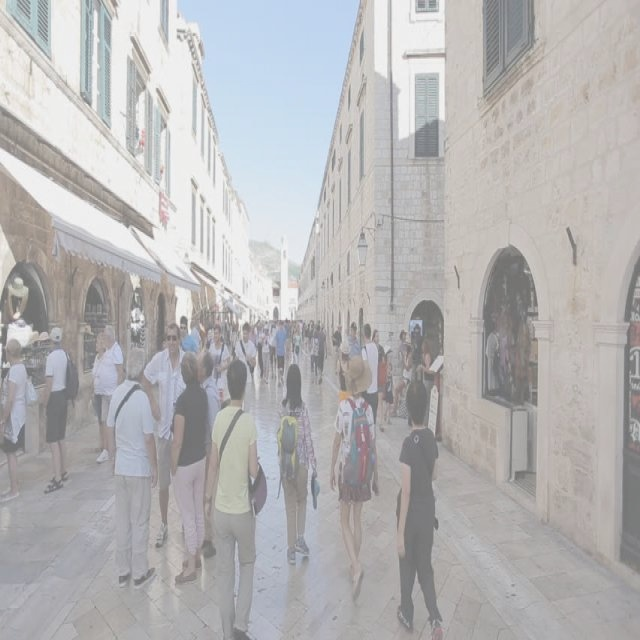pessoa: (200, 353, 269, 639), (391, 374, 446, 638), (326, 350, 382, 606), (104, 342, 160, 594), (272, 358, 323, 570), (142, 321, 188, 551), (167, 348, 210, 587), (39, 323, 80, 496), (0, 334, 40, 504), (189, 304, 327, 347), (195, 346, 222, 562), (390, 322, 436, 424), (95, 324, 125, 466), (254, 345, 326, 387), (360, 321, 380, 459), (232, 320, 256, 413), (90, 330, 106, 454), (208, 322, 232, 404), (334, 337, 352, 392), (330, 321, 345, 376), (383, 360, 395, 427), (345, 319, 363, 362), (128, 305, 145, 348), (371, 328, 386, 363), (180, 314, 188, 338), (160, 332, 168, 352)
